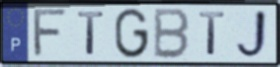B: (152, 7, 192, 61)
F: (31, 7, 70, 59)
G: (113, 7, 151, 61)
J: (233, 8, 271, 61)
T: (76, 10, 107, 57), (197, 10, 227, 58)
